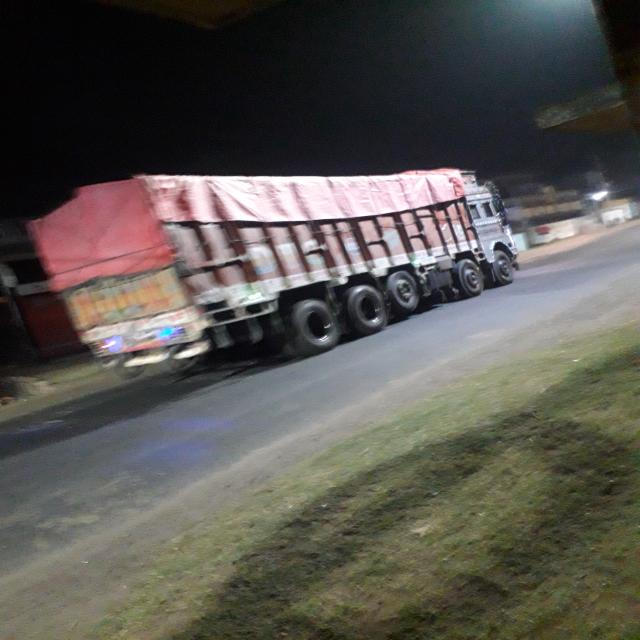Truck: (27, 152, 512, 376)
